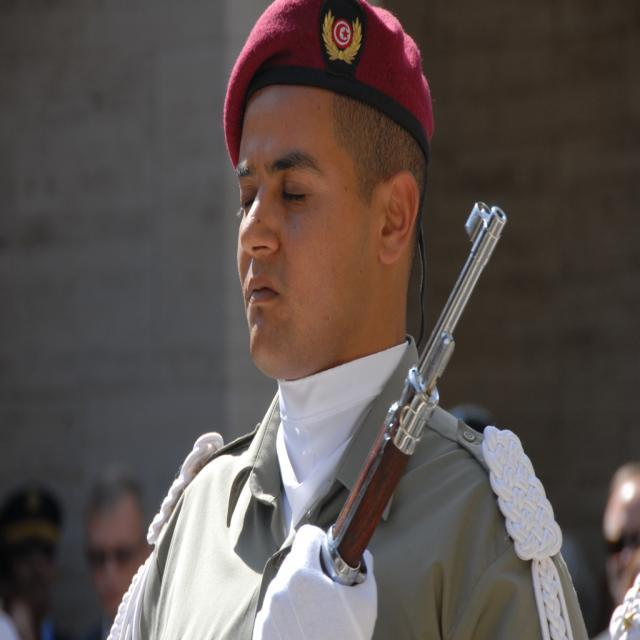weapon: (318, 200, 507, 584)
